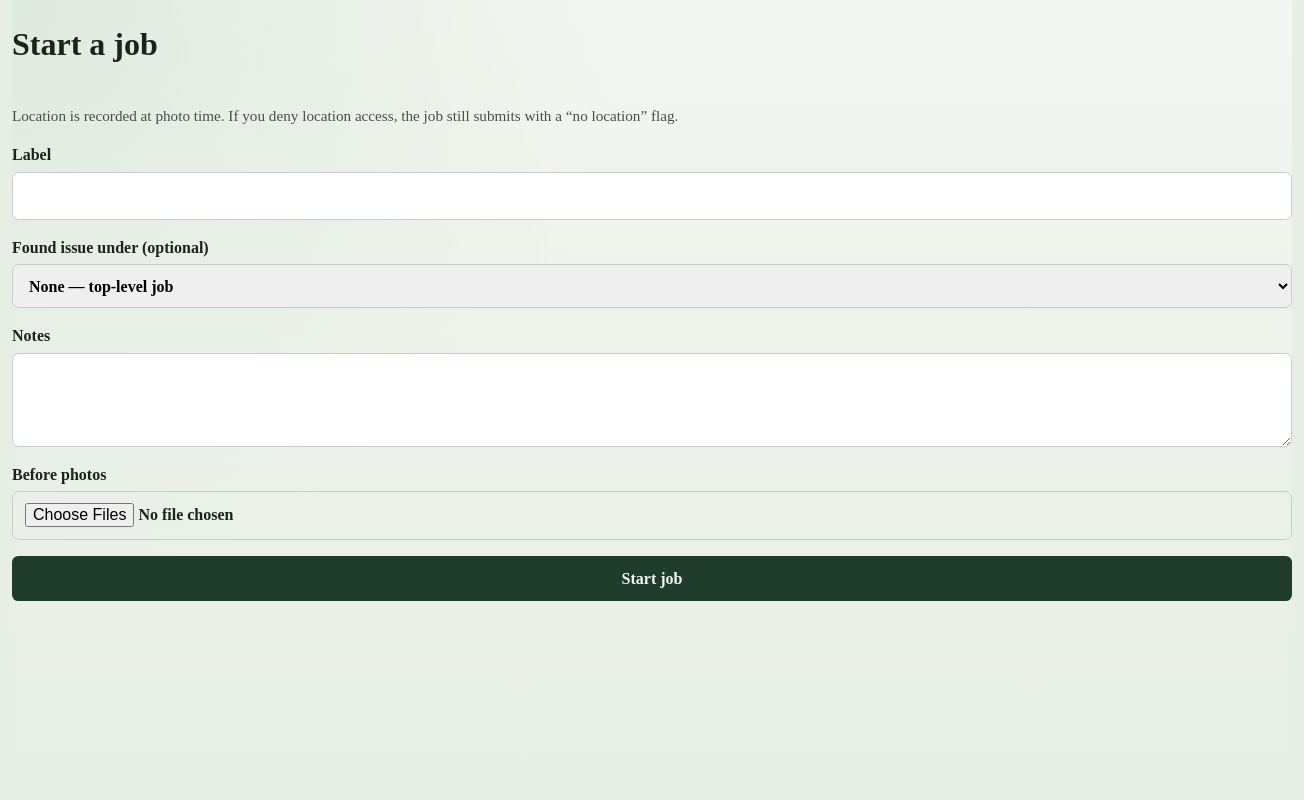
Test: StartJobForm › keeps form values after a failed submit
In the field named "label": point(652, 196) [12,172,1292,220], type "Drywall crack"
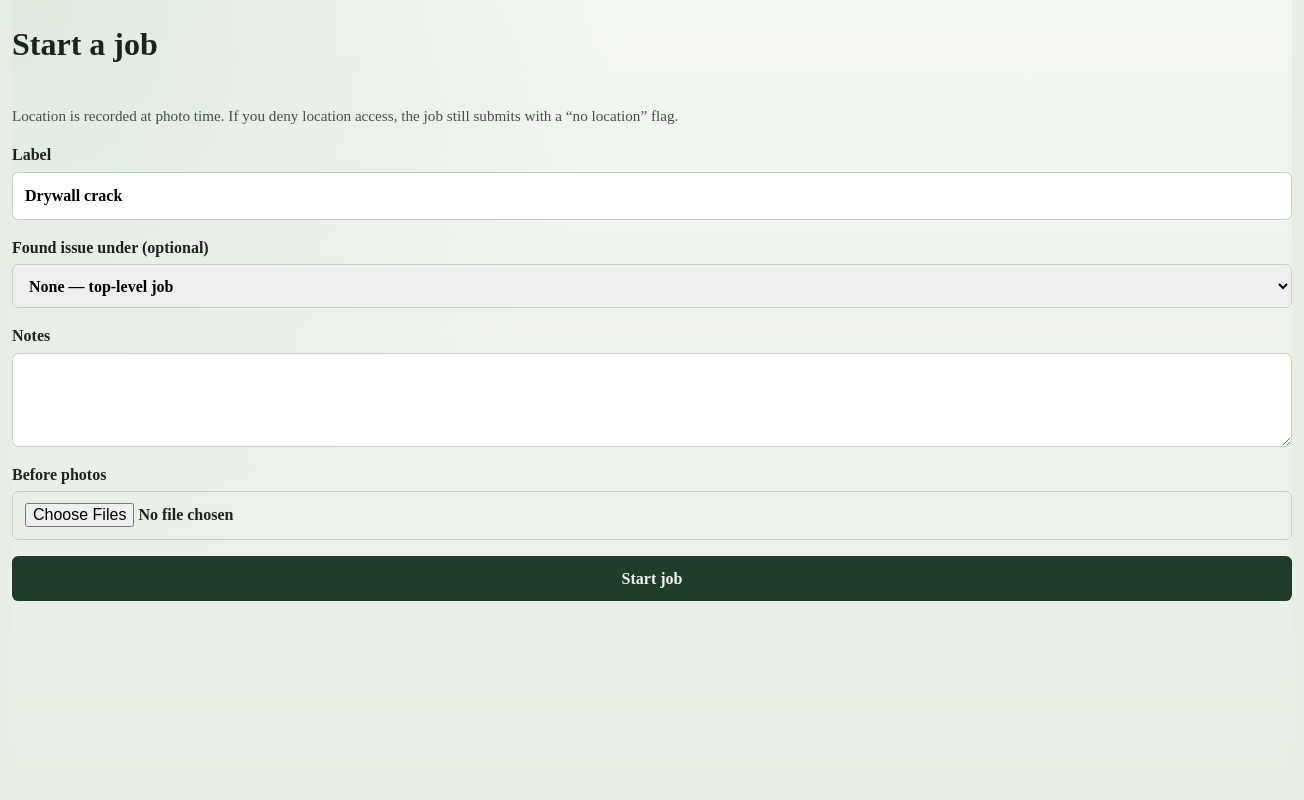
In the text box named "notes": point(652, 400) [12,353,1292,446], type "keep me"
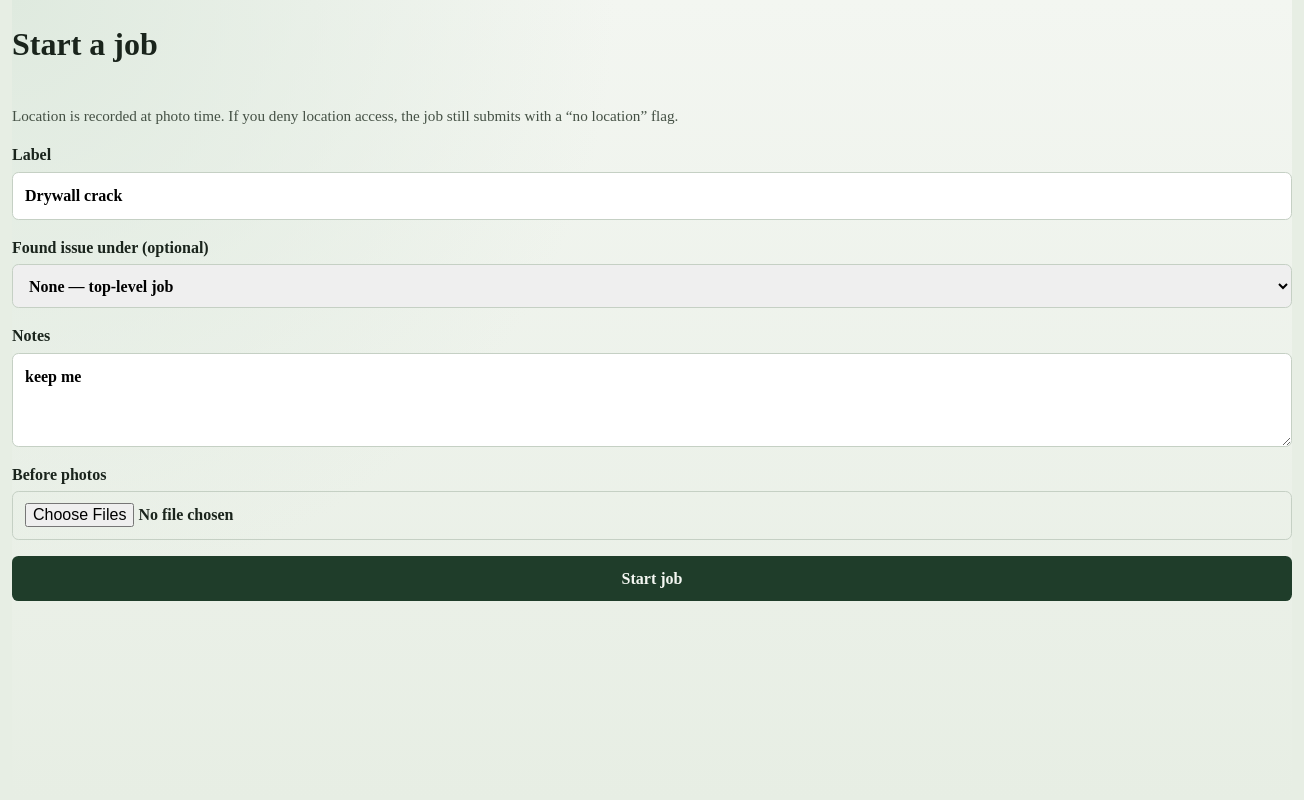
Submit the form
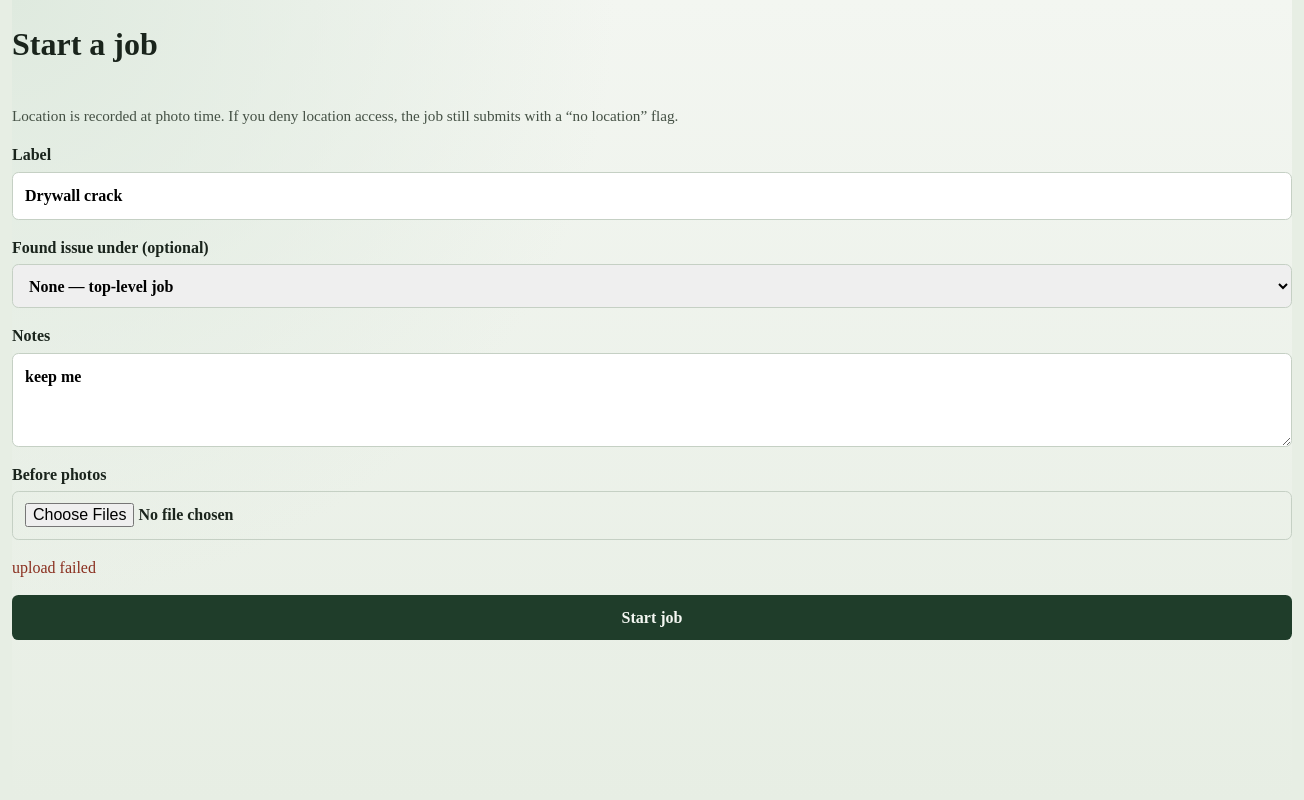
Now the form shows "upload failed", box [12,559,96,576]
